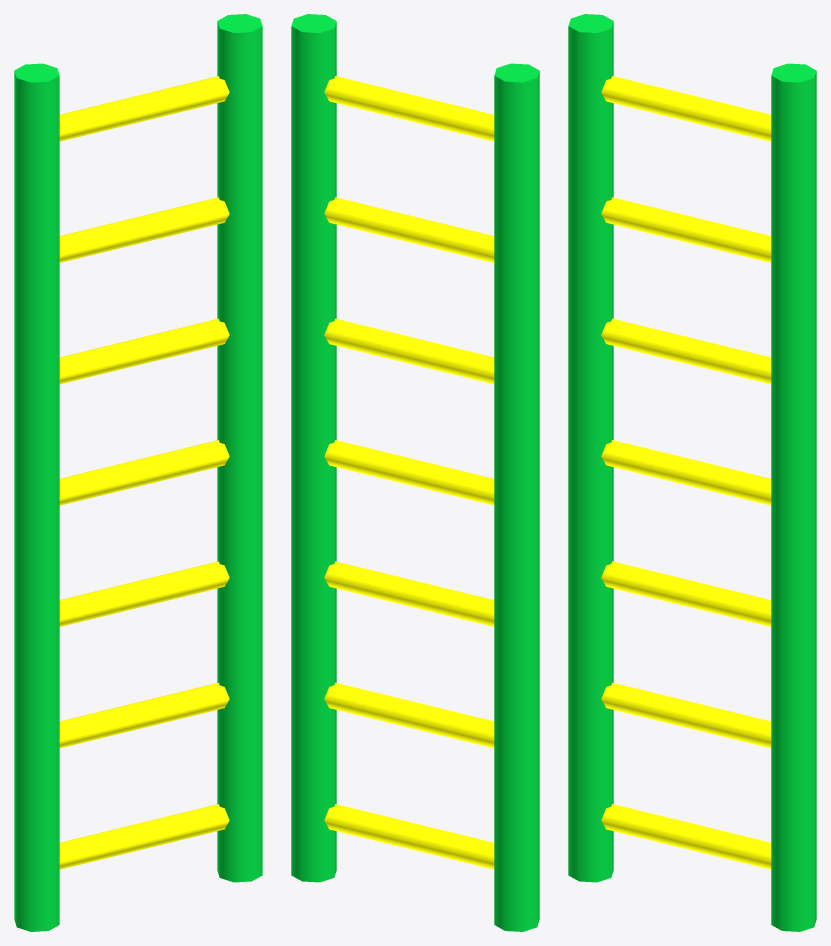
File: Ladder_01.glb
The picture shows the model from 3 angles, left to right: view 1: azimuth 30°, elevation 25°; view 2: azimuth 150°, elevation 25°; view 3: azimuth 330°, elevation 25°; orthographic projection.
Visible parts, largest first — view 1: Ladder_01; view 2: Ladder_01; view 3: Ladder_01.
Boxes of the visible parts, bbox=[...] form: Ladder_01: bbox=[14, 14, 262, 931]; Ladder_01: bbox=[291, 14, 539, 931]; Ladder_01: bbox=[568, 14, 816, 931].
Bounding box in the file's own units: 1.2 × 4 × 0.2.
Materials: 1 (1 with a texture image).
